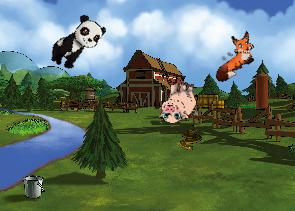fox: (202, 27, 264, 85)
panda: (45, 10, 108, 76)
pig: (158, 80, 198, 123)
